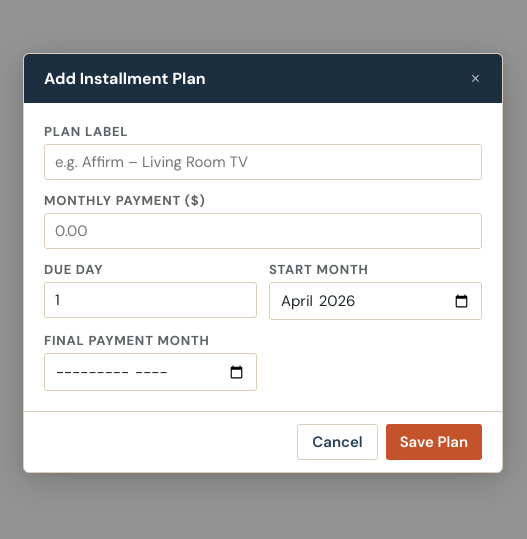
Test case: AffirmForm — validation › shows error when label is missing on save
The image size is (527, 539).
Click the button "Save Plan" at (434, 442), box [386,424,482,460]
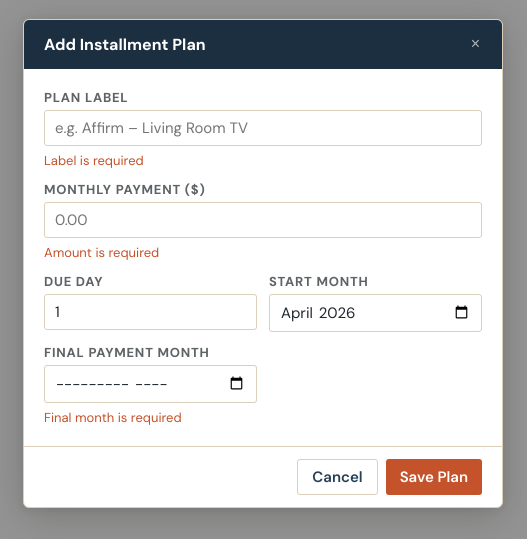
Result: the text "Label is required" is shown at [44,152,144,168]
